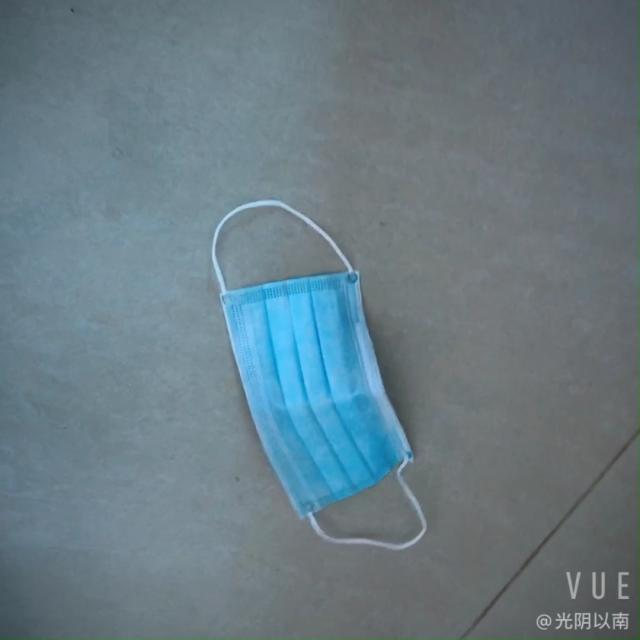face mask: (190, 207, 412, 562)
